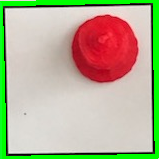Red King: (66, 10, 142, 84)
